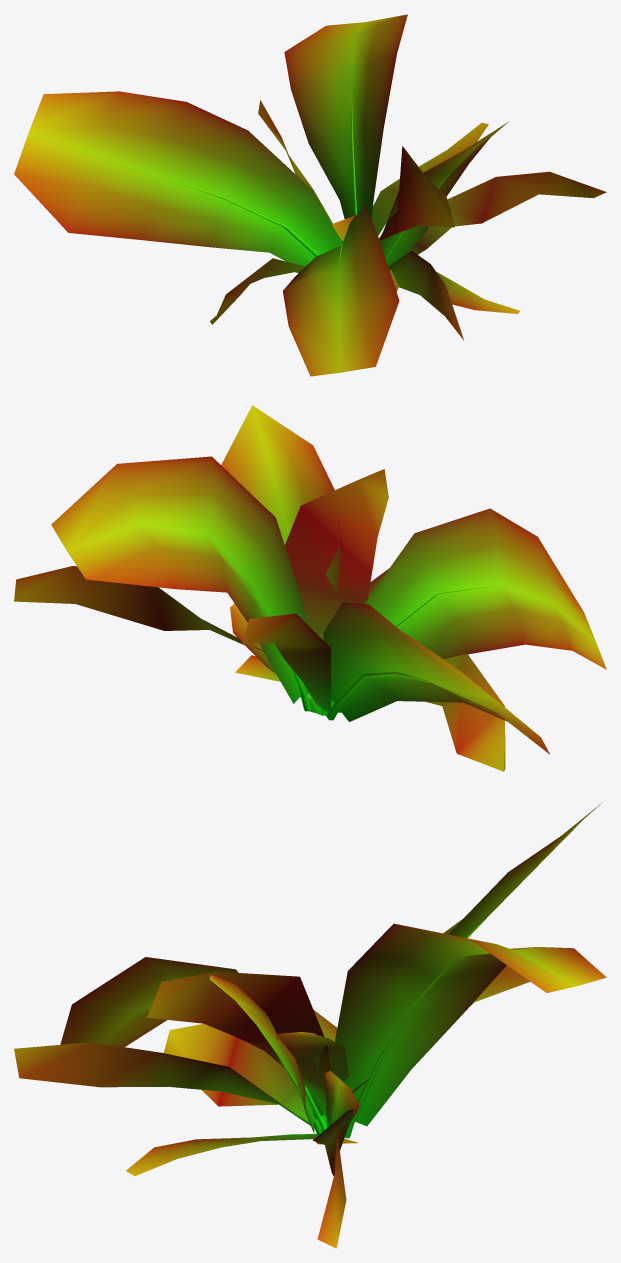
The model's file is Silver Lady Fern_LOD2_Var4_ubolejkia.fbx.
3 views of the same model, one above another, from view 1: azimuth 30°, elevation 25°; view 2: azimuth 150°, elevation 25°; view 3: azimuth 270°, elevation 25° (orthographic). The views are drawn at different scales.
Parts seen in each view (by area): view 1: _786c_Var4_LOD2; view 2: _786c_Var4_LOD2; view 3: _786c_Var4_LOD2.
Boxes of the visible parts, x1,y1,x2,y2 form: _786c_Var4_LOD2: (14,14,606,376); _786c_Var4_LOD2: (14,405,606,771); _786c_Var4_LOD2: (14,802,606,1248).
Bounding box in the file's own units: 137 × 56.15 × 111.
